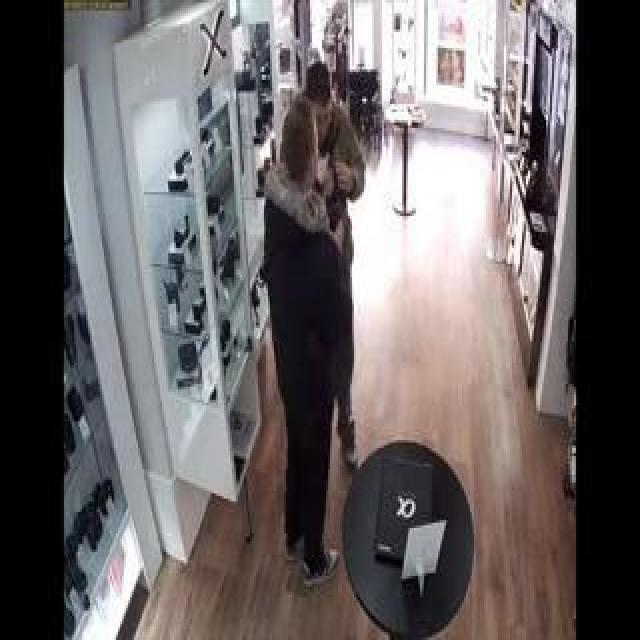Shoplifting: (242, 57, 426, 420)
